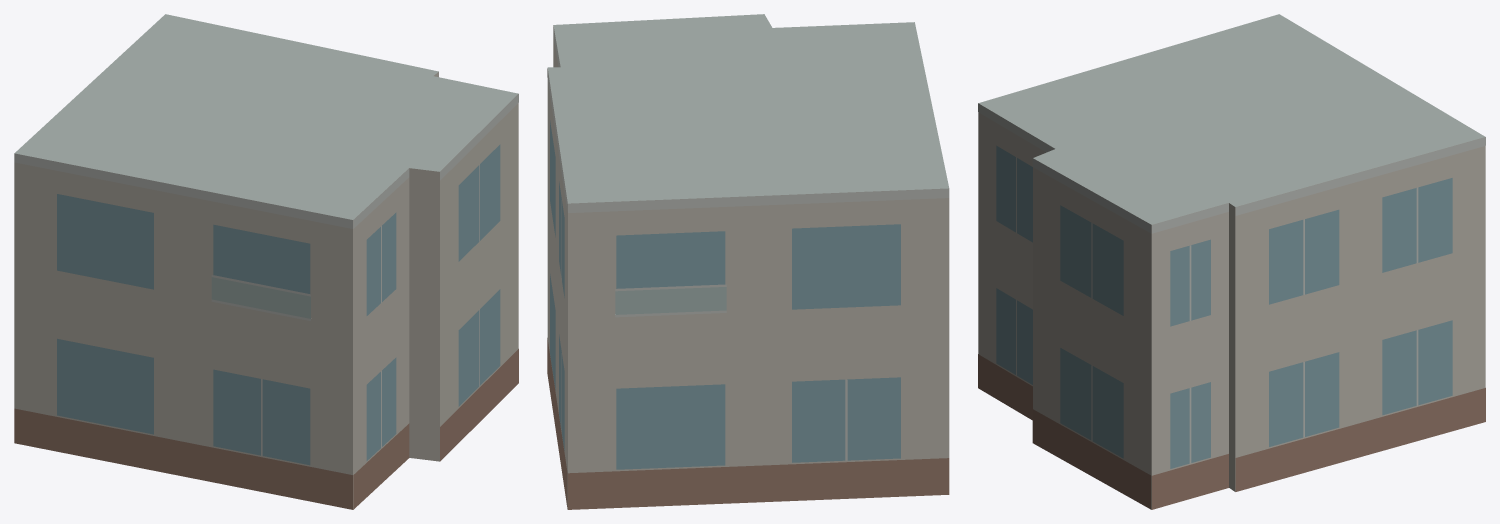
Rendered from survey-upis-32718606.glb.
The picture shows the model from 3 angles, left to right: view 1: azimuth 30°, elevation 25°; view 2: azimuth 150°, elevation 25°; view 3: azimuth 270°, elevation 25°; orthographic projection. The views are drawn at different scales.
Visible parts, largest first — view 1: survey-upis-32718606.tmp; view 2: survey-upis-32718606.tmp; view 3: survey-upis-32718606.tmp.
Part boxes in pixels (x1,y1,x2,y2): survey-upis-32718606.tmp: (14,14,518,509); survey-upis-32718606.tmp: (547,14,949,509); survey-upis-32718606.tmp: (978,14,1485,509).
Size of the model in its own units: 12.39 by 7.8 by 12.6.
